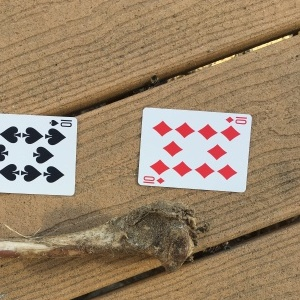card: (138, 106, 254, 194)
